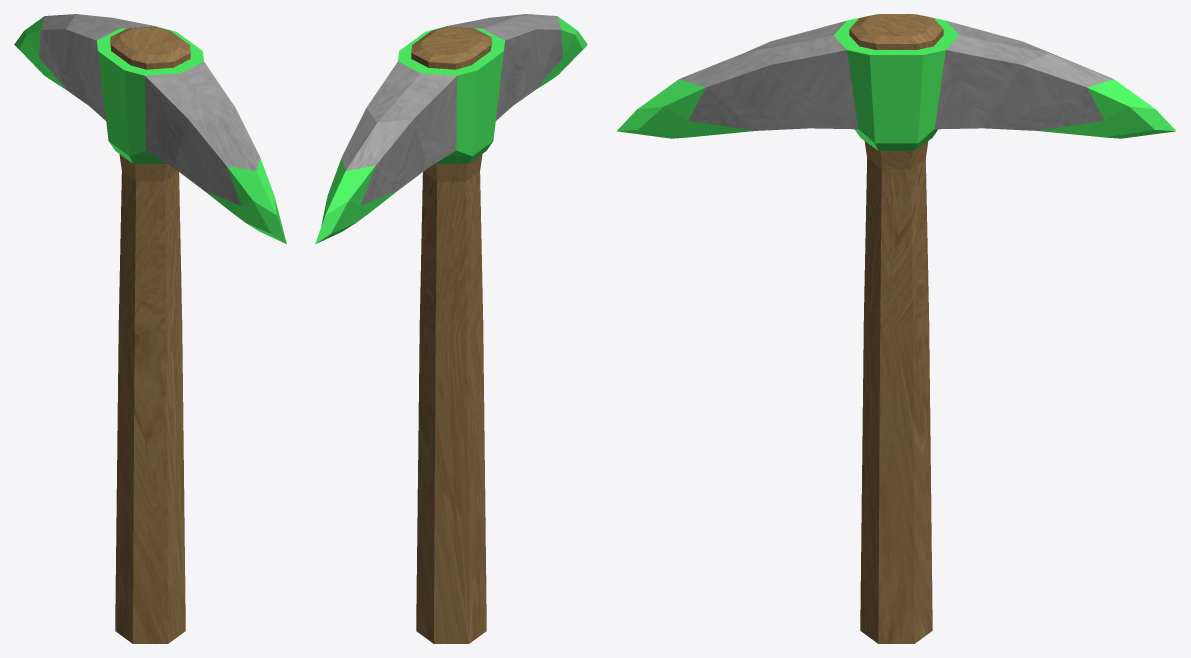
The model's file is item_pickaxe_emerald.fbx.
3 views of the same model, side by side, from view 1: azimuth 30°, elevation 25°; view 2: azimuth 150°, elevation 25°; view 3: azimuth 270°, elevation 25° (orthographic). The views are drawn at different scales.
Visible parts, largest first — view 1: Hold; view 2: Hold; view 3: Hold.
Boxes of the visible parts, <box> form: Hold: <box>14,14,286,643</box>; Hold: <box>315,14,587,643</box>; Hold: <box>617,14,1175,643</box>.
Bounding box in the file's own units: 206 × 1475 × 1237.
Materials: 3 (2 with a texture image).
